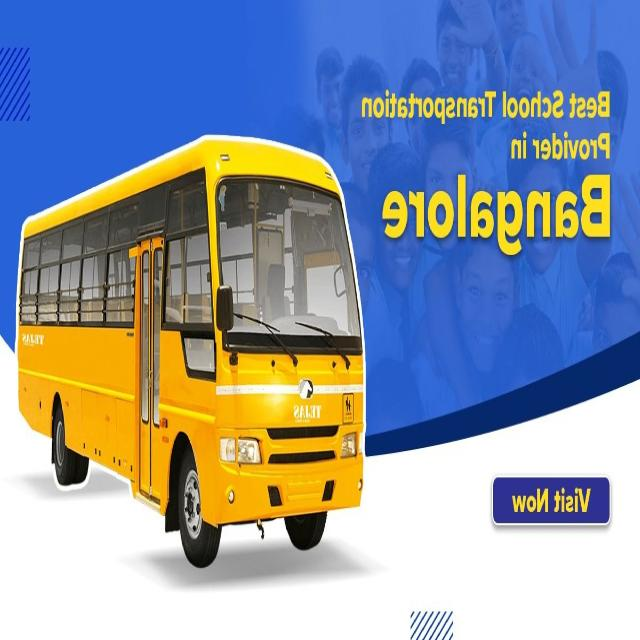bus: (16, 136, 365, 567)
